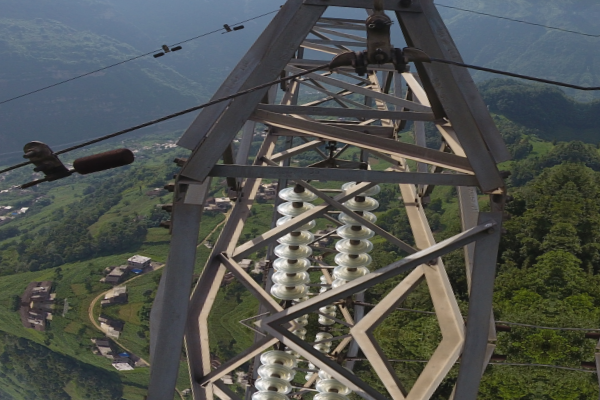damper: (151, 42, 183, 58)
damper_defect: (18, 133, 136, 193), (218, 22, 246, 35)
